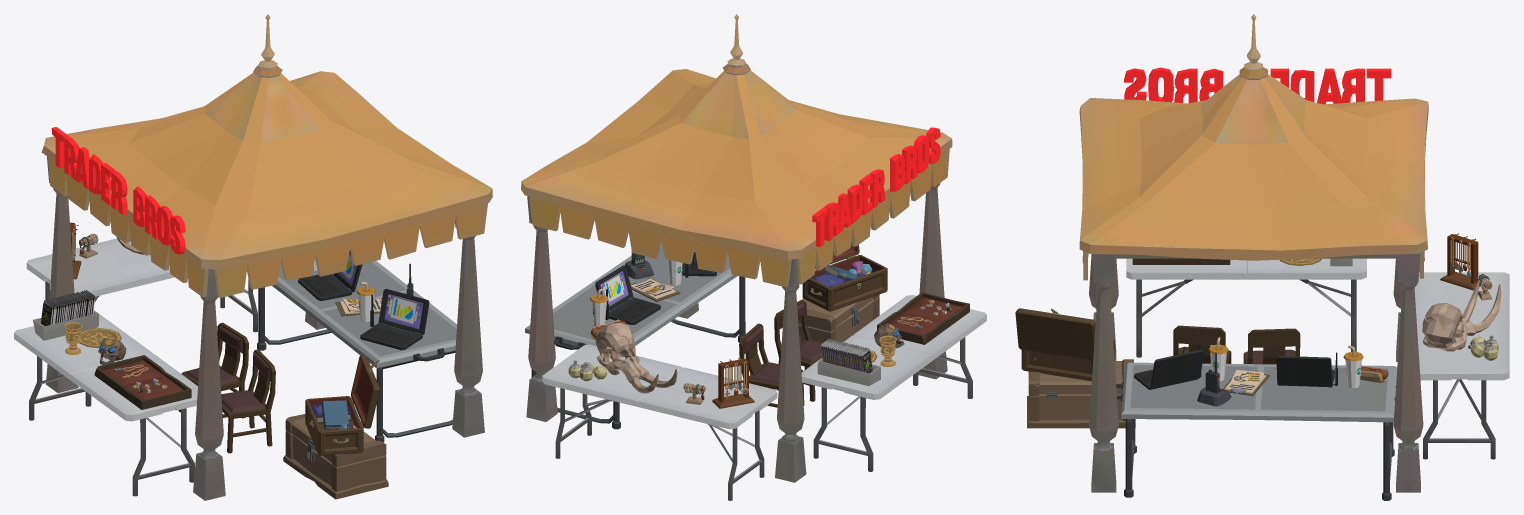
File: stall_rugs.glb
3 renders of one model, left to right at view 1: azimuth 30°, elevation 25°; view 2: azimuth 150°, elevation 25°; view 3: azimuth 270°, elevation 25°, orthographic. The views are drawn at different scales.
Visible parts, largest first — view 1: SM_Prop_Market_Stall_05, SM_Prop_Market_Stall_04_Dressing.003, SM_Prop_Table_01.001, SM_Prop_Cafe_Table_Folding_03, SM_Prop_Cafe_Table_Folding_03.001, SM_Prop_Market_Stall_04_Dressing.002, SM_Prop_Market_Stall_04_Dressing.004, SM_Prop_Laptop_01 (1), SM_Prop_Market_Stall_04_Dressing.005, SM_Prop_Laptop_01 (2), SM_Prop_Laptop_01 (1).001, SM_Prop_Cardboard_Box_04 (+6 smaller); view 2: SM_Prop_Market_Stall_05, SM_Prop_Cafe_Table_Folding_03.001, SM_Prop_Cafe_Table_Folding_03, SM_Prop_Table_01.001, SM_Prop_Market_Stall_04_Dressing.003, SM_Prop_Market_Stall_04_Dressing.002, SM_Prop_Bones_01, SM_Prop_Market_Stall_04_Dressing.005, SM_Prop_Market_Stall_04_Dressing.001, SM_Prop_Laptop_01 (2), SM_Prop_Market_Stall_04_Dressing.004, SM_Prop_Cardboard_Box_04 (+6 smaller); view 3: SM_Prop_Market_Stall_05, SM_Prop_Table_01.001, SM_Prop_Market_Stall_04_Dressing.003, SM_Prop_Cafe_Table_Folding_03.001, SM_Prop_Cafe_Table_Folding_03, SM_Prop_Bones_01, SM_Prop_Laptop_01 (2), SM_Prop_Laptop_01 (1), SM_Prop_Market_Stall_04_Dressing.005, SM_Prop_Market_Stall_04_Dressing.001, SM_Prop_Market_Stall_04_Dressing.004, SM_Prop_Clipboard_01 (+10 smaller).
Boxes of the visible parts, x1,y1,x2,y2 form: SM_Prop_Market_Stall_05: (41,14,492,500); SM_Prop_Market_Stall_04_Dressing.003: (283,355,388,499); SM_Prop_Table_01.001: (257,261,456,442); SM_Prop_Cafe_Table_Folding_03: (14,314,197,496); SM_Prop_Cafe_Table_Folding_03.001: (26,238,257,332); SM_Prop_Market_Stall_04_Dressing.002: (94,355,191,409); SM_Prop_Market_Stall_04_Dressing.004: (221,349,275,453); SM_Prop_Laptop_01 (1): (360,289,429,350); SM_Prop_Market_Stall_04_Dressing.005: (178,322,248,418); SM_Prop_Laptop_01 (2): (298,251,362,300); SM_Prop_Laptop_01 (1).001: (384,294,423,328); SM_Prop_Cardboard_Box_04: (33,310,98,340); SM_Prop_Market_Stall_05: (521,14,952,482); SM_Prop_Cafe_Table_Folding_03.001: (542,344,777,500); SM_Prop_Cafe_Table_Folding_03: (801,295,986,471); SM_Prop_Table_01.001: (525,242,745,429); SM_Prop_Market_Stall_04_Dressing.003: (798,242,887,342); SM_Prop_Market_Stall_04_Dressing.002: (877,292,969,344); SM_Prop_Bones_01: (595,322,677,393); SM_Prop_Market_Stall_04_Dressing.005: (739,323,804,407); SM_Prop_Market_Stall_04_Dressing.001: (712,357,754,408); SM_Prop_Laptop_01 (2): (595,265,660,324); SM_Prop_Market_Stall_04_Dressing.004: (774,300,822,401); SM_Prop_Cardboard_Box_04: (817,358,880,385); SM_Prop_Market_Stall_05: (1079,14,1428,492); SM_Prop_Table_01.001: (1116,362,1397,500); SM_Prop_Market_Stall_04_Dressing.003: (1015,308,1135,428); SM_Prop_Cafe_Table_Folding_03.001: (1414,272,1509,459); SM_Prop_Cafe_Table_Folding_03: (1126,258,1366,357); SM_Prop_Bones_01: (1422,280,1501,351); SM_Prop_Laptop_01 (2): (1276,352,1337,387); SM_Prop_Laptop_01 (1): (1134,344,1204,389); SM_Prop_Market_Stall_04_Dressing.005: (1243,328,1300,364); SM_Prop_Market_Stall_04_Dressing.001: (1440,233,1481,290); SM_Prop_Market_Stall_04_Dressing.004: (1173,325,1231,363); SM_Prop_Clipboard_01: (1222,370,1269,395).
Size of what is drawn, in the model's own units: 3.89 by 4.17 by 4.54.
Materials: 11 (10 with a texture image).
